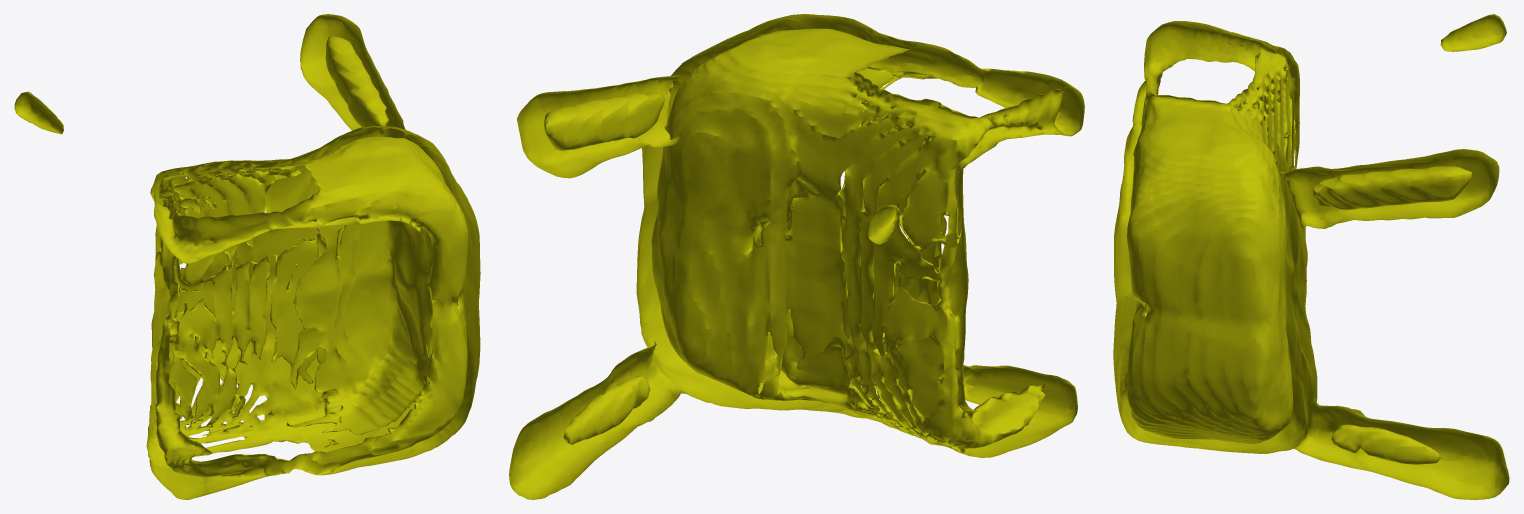
The picture shows the model from 3 angles, left to right: view 1: azimuth 30°, elevation 25°; view 2: azimuth 150°, elevation 25°; view 3: azimuth 270°, elevation 25°; orthographic projection. The views are drawn at different scales.
Parts seen in each view (by area): view 1: world; view 2: world; view 3: world.
Part boxes in pixels (x1,y1,x2,y2): world: [14, 14, 480, 499]; world: [509, 14, 1084, 499]; world: [1113, 14, 1509, 499].
Bounding box in the file's own units: 69.06 × 65.42 × 67.99.
